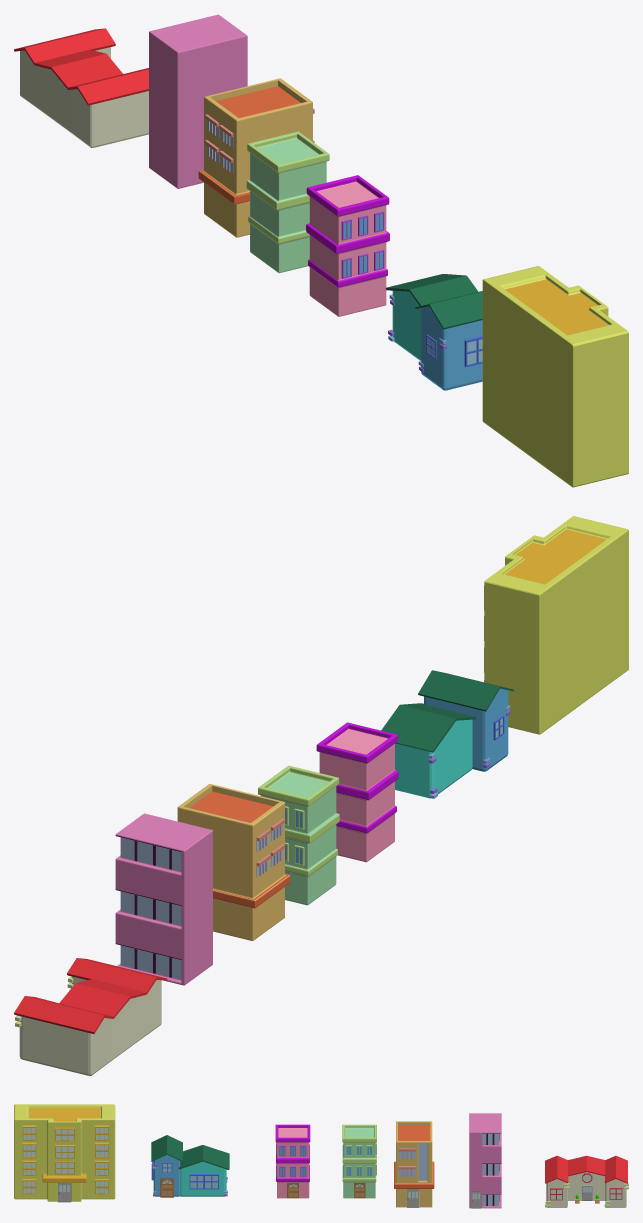
The model's file is base_casas.fbx.
3 renders of one model, top to bottom at view 1: azimuth 30°, elevation 25°; view 2: azimuth 150°, elevation 25°; view 3: azimuth 270°, elevation 25°, orthographic. The views are drawn at different scales.
Visible parts, largest first — view 1: Cube.053, Cube.099, Cube.042, Cube.114, Cube.100, Cube.004, Cube.115; view 2: Cube.053, Cube.099, Cube.042, Cube.100, Cube.004, Cube.114, Cube.115; view 3: Cube.053, Cube.004, Cube.042, Cube.100, Cube.099, Cube.115, Cube.114, Cube.001.
Boxes of the visible parts, x1=… form: Cube.053: x1=482, y1=266, x2=628, y2=487; Cube.099: x1=149, y1=14, x2=247, y2=188; Cube.042: x1=14, y1=28, x2=148, y2=147; Cube.114: x1=306, y1=175, x2=389, y2=316; Cube.100: x1=198, y1=78, x2=314, y2=237; Cube.004: x1=386, y1=274, x2=482, y2=390; Cube.115: x1=246, y1=131, x2=329, y2=273; Cube.053: x1=484, y1=516, x2=628, y2=734; Cube.099: x1=115, y1=813, x2=212, y2=985; Cube.042: x1=14, y1=958, x2=167, y2=1075; Cube.100: x1=177, y1=784, x2=290, y2=940; Cube.004: x1=381, y1=670, x2=513, y2=798; Cube.114: x1=316, y1=722, x2=398, y2=862; Cube.115: x1=258, y1=765, x2=339, y2=905; Cube.053: x1=14, y1=1104, x2=115, y2=1202; Cube.004: x1=151, y1=1135, x2=229, y2=1197; Cube.042: x1=545, y1=1155, x2=628, y2=1207; Cube.100: x1=394, y1=1121, x2=434, y2=1207; Cube.099: x1=469, y1=1113, x2=501, y2=1208; Cube.115: x1=342, y1=1124, x2=376, y2=1198; Cube.114: x1=275, y1=1124, x2=310, y2=1198; Cube.001: x1=471, y1=1191, x2=480, y2=1208.
Size of the model in its own units: 276 by 423 by 2767.
